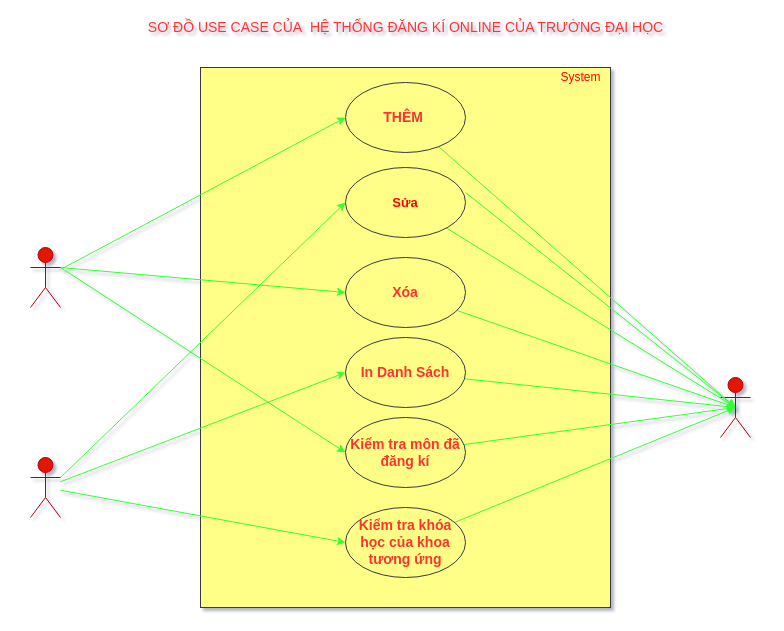
The diagram is 784 pixels wide and 631 high, and some of its shapes have lost their labels. Here are the shapes that lost their labels. From the top down, the centre of each, then its label:
At (45,277): "Sinh Viên".
At (735,407): "Datebase".
At (45,487): "Nhân Viên".
